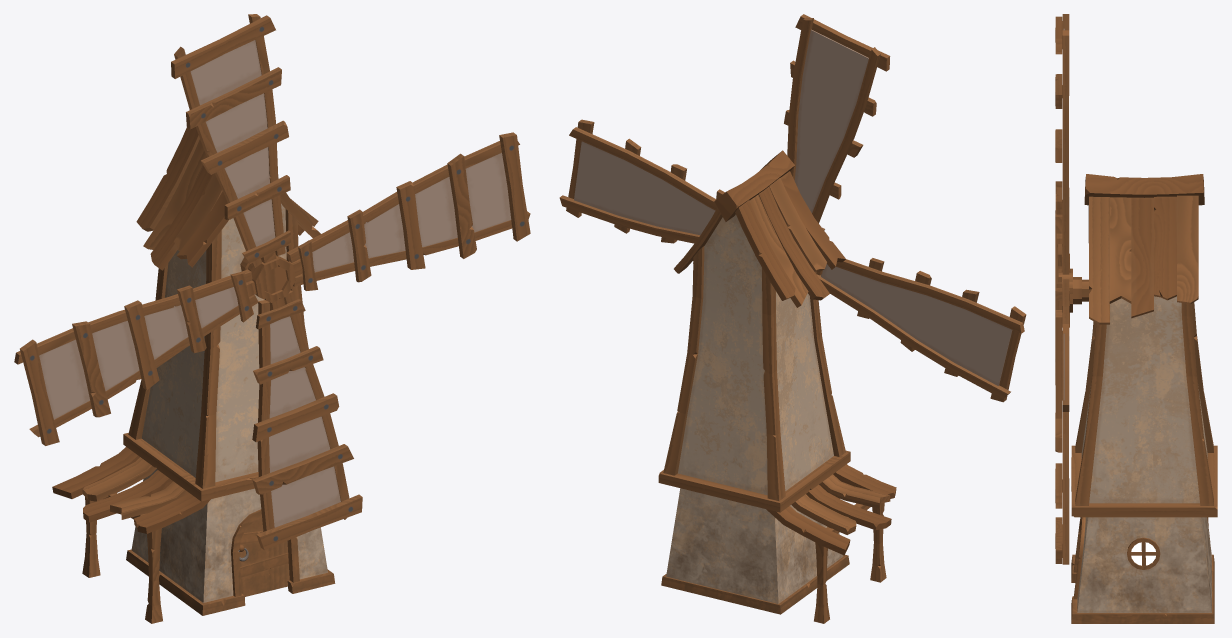
Rendered from Windmill.fbx.
3 renders of one model, left to right at view 1: azimuth 30°, elevation 25°; view 2: azimuth 150°, elevation 25°; view 3: azimuth 270°, elevation 25°, orthographic. The views are drawn at different scales.
Visible parts, largest first — view 1: Mill, Windmill; view 2: Windmill, Mill; view 3: Windmill, Mill.
Boxes of the visible parts, left/top/right/bottom form: Mill: left=14, top=14, right=530, bottom=550; Windmill: left=52, top=127, right=335, bottom=623; Windmill: left=658, top=150, right=896, bottom=623; Mill: left=559, top=14, right=1026, bottom=402; Windmill: left=1071, top=174, right=1217, bottom=623; Mill: left=1055, top=14, right=1088, bottom=564.
Bounding box in the file's own units: 625 × 690 × 183.
